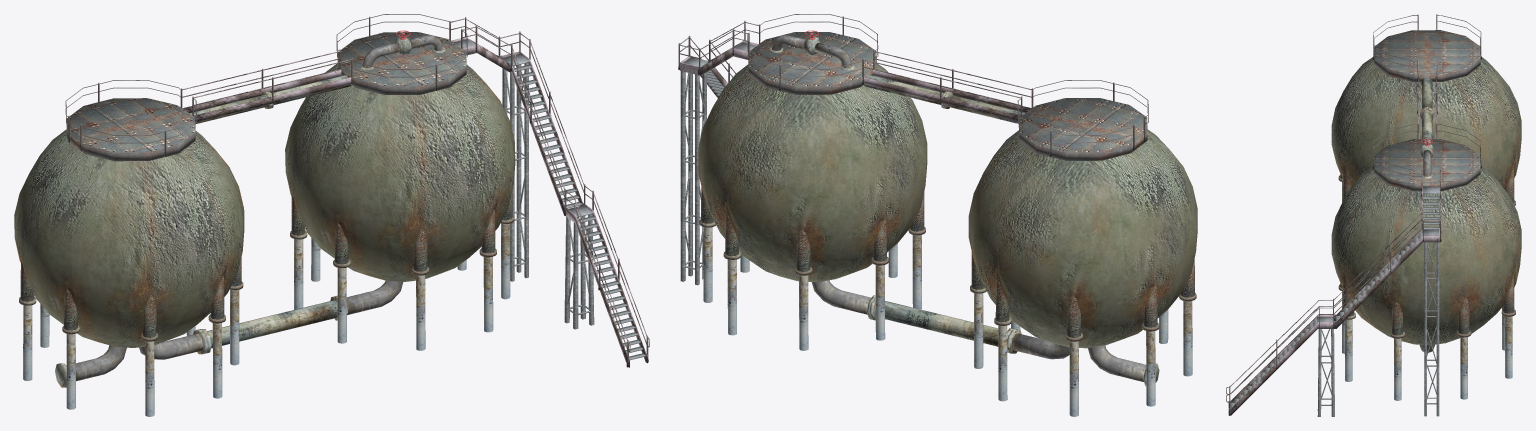
The model's file is tank_spheres.glb.
3 views of the same model, side by side, from view 1: azimuth 30°, elevation 25°; view 2: azimuth 150°, elevation 25°; view 3: azimuth 270°, elevation 25° (orthographic). The views are drawn at different scales.
Parts seen in each view (by area): view 1: tank_spheres; view 2: tank_spheres; view 3: tank_spheres.
Part boxes in pixels (x1,y1,x2,y2): tank_spheres: [14, 14, 649, 416]; tank_spheres: [678, 14, 1197, 416]; tank_spheres: [1226, 14, 1521, 416].
Bounding box in the file's own units: 2.6 × 1.36 × 1.62.
2 materials, 2 textured.
